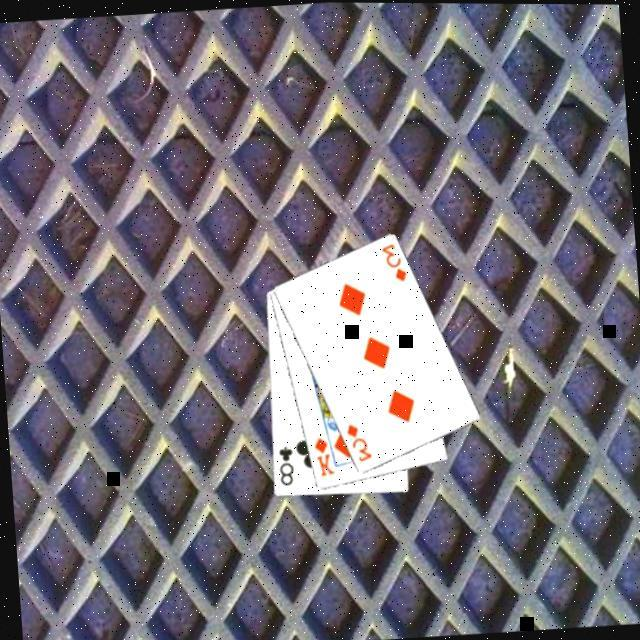3D: (340, 419, 372, 465), (376, 240, 408, 286)
8C: (272, 444, 295, 488)
KD: (308, 432, 335, 480)
